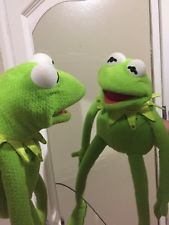kermit: (1, 52, 86, 138), (97, 51, 150, 111)
